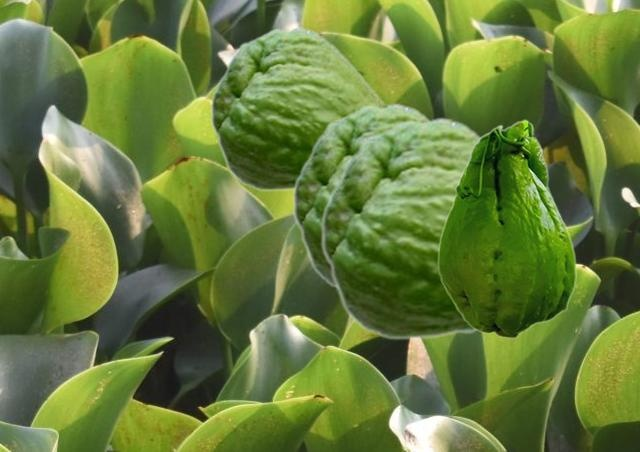sayote: (320, 116, 572, 340), (437, 119, 576, 338), (210, 26, 386, 191), (292, 102, 431, 290)
